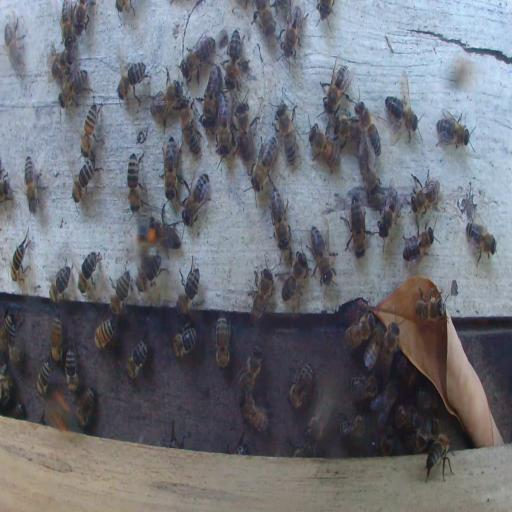nonpollenbee: (384, 84, 424, 144), (320, 56, 352, 114), (273, 92, 298, 166), (248, 259, 274, 326), (309, 226, 338, 286), (180, 32, 214, 83), (434, 109, 474, 151), (150, 74, 182, 126), (308, 123, 340, 171), (343, 195, 367, 258), (280, 6, 307, 62), (250, 136, 278, 190), (410, 169, 441, 217), (116, 58, 149, 103), (176, 260, 201, 317), (182, 172, 210, 222), (4, 16, 28, 74), (281, 252, 307, 305), (425, 435, 454, 482), (466, 220, 498, 262), (403, 224, 436, 264), (287, 361, 314, 409), (236, 348, 264, 394), (356, 102, 380, 154), (2, 307, 24, 363), (80, 100, 101, 158), (240, 394, 270, 434), (71, 158, 97, 204), (234, 104, 256, 158), (48, 260, 72, 308), (156, 204, 181, 250), (360, 145, 380, 201), (110, 268, 132, 318), (78, 249, 101, 296), (345, 312, 375, 348), (59, 70, 88, 107), (10, 233, 30, 286), (377, 190, 398, 240), (272, 191, 290, 249), (162, 138, 178, 202), (349, 374, 381, 405), (126, 338, 149, 381), (24, 155, 41, 213), (126, 152, 142, 212), (213, 316, 231, 369), (202, 67, 218, 125), (136, 253, 162, 288), (182, 110, 201, 155), (364, 328, 383, 372), (76, 386, 95, 429), (49, 47, 73, 80), (172, 327, 197, 358), (252, 3, 276, 35), (338, 414, 366, 441), (414, 389, 438, 419), (94, 317, 116, 349), (402, 428, 430, 452), (36, 357, 53, 395), (59, 3, 74, 46), (65, 345, 78, 394), (393, 404, 415, 432), (415, 298, 441, 321), (50, 314, 62, 363), (0, 362, 12, 410), (316, 0, 334, 32), (383, 322, 399, 358), (73, 4, 90, 33), (373, 434, 394, 456), (231, 438, 249, 456), (12, 401, 26, 419)
pollenbee: (134, 211, 158, 273), (45, 391, 73, 431)
